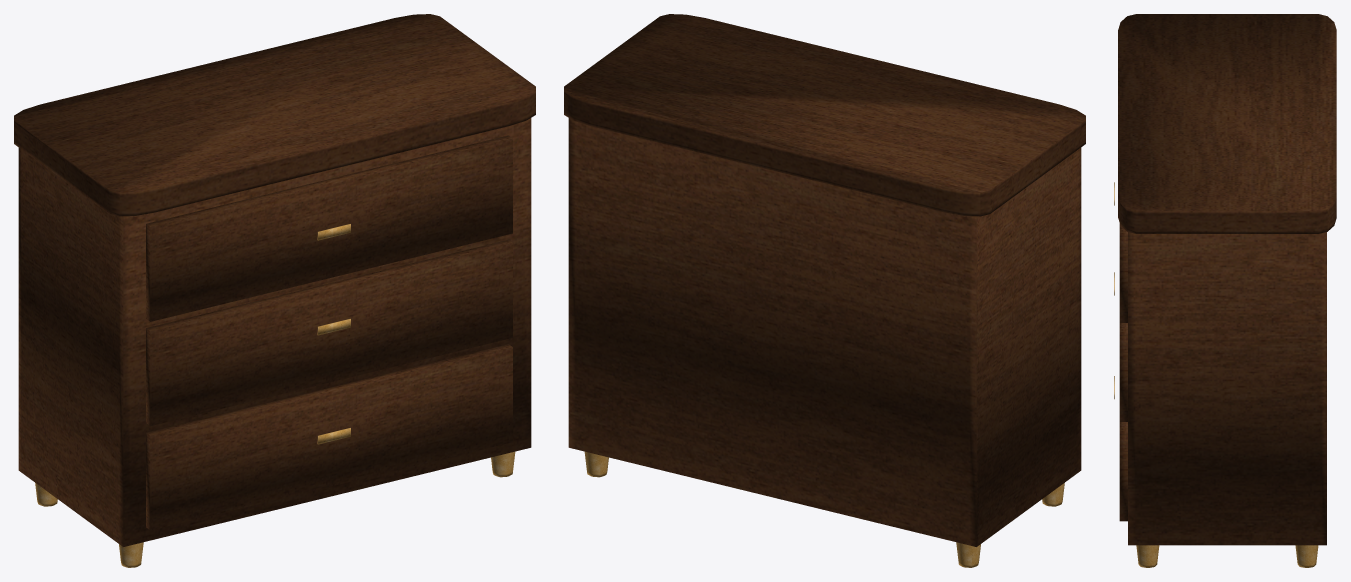
File: drawer.fbx
3 renders of one model, left to right at view 1: azimuth 30°, elevation 25°; view 2: azimuth 150°, elevation 25°; view 3: azimuth 270°, elevation 25°, orthographic. The views are drawn at different scales.
Parts seen in each view (by area): view 1: Base.Top, Base, Drawer.001, Drawer.003, Drawer.002; view 2: Base, Base.Top; view 3: Base, Base.Top, Drawer.001, Drawer.002, Drawer.003, leg.004, leg.002.
Boxes of the visible parts, left/top/right/bottom form: Base.Top: left=14, top=14, right=535, bottom=216; Base: left=18, top=118, right=531, bottom=546; Drawer.001: left=146, top=344, right=512, bottom=530; Drawer.003: left=146, top=135, right=512, bottom=321; Drawer.002: left=146, top=240, right=512, bottom=426; Base: left=568, top=118, right=1081, bottom=546; Base.Top: left=564, top=14, right=1085, bottom=216; Base: left=1128, top=232, right=1326, bottom=545; Base.Top: left=1118, top=14, right=1336, bottom=233; Drawer.001: left=1119, top=422, right=1127, bottom=521; Drawer.002: left=1119, top=323, right=1127, bottom=421; Drawer.003: left=1119, top=224, right=1127, bottom=322; leg.004: left=1295, top=545, right=1318, bottom=567; leg.002: left=1136, top=545, right=1159, bottom=567.
Size of the model in its own units: 93.99 by 81.04 by 44.78.
